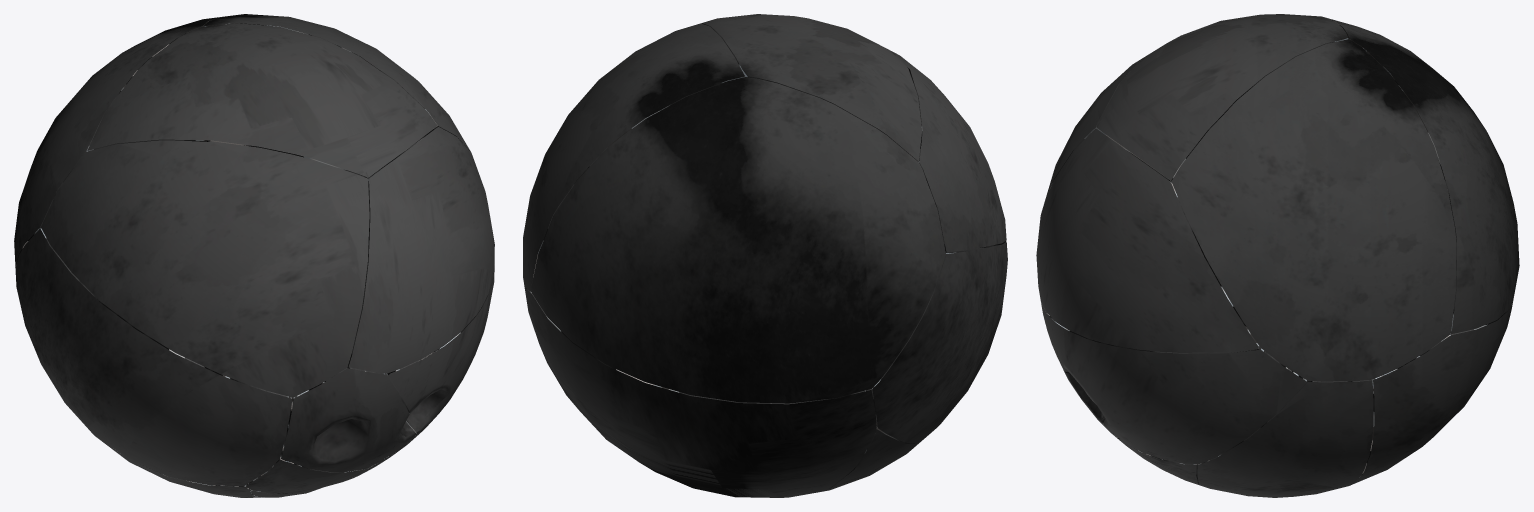
File: projectile1_fractured.glb
The picture shows the model from 3 angles, left to right: view 1: azimuth 30°, elevation 25°; view 2: azimuth 150°, elevation 25°; view 3: azimuth 270°, elevation 25°; orthographic projection.
Visible parts, largest first — view 1: ball-phys-dynamic._cell, ball-phys-dynamic._cell.004, ball-phys-dynamic._cell.005, ball-phys-dynamic._cell.013, ball-phys-dynamic._cell.001, ball-phys-dynamic._cell.006, ball-phys-dynamic._cell.007, ball-phys-dynamic._cell.003, ball-phys-dynamic._cell.009, ball-phys-dynamic._cell.008; view 2: ball-phys-dynamic._cell.006, ball-phys-dynamic._cell.011, ball-phys-dynamic._cell.003, ball-phys-dynamic._cell.005, ball-phys-dynamic._cell.004, ball-phys-dynamic._cell, ball-phys-dynamic._cell.008; view 3: ball-phys-dynamic._cell.003, ball-phys-dynamic._cell.013, ball-phys-dynamic._cell.007, ball-phys-dynamic._cell.004, ball-phys-dynamic._cell.006, ball-phys-dynamic._cell.012, ball-phys-dynamic._cell.011, ball-phys-dynamic._cell, ball-phys-dynamic._cell.002.
Part boxes in pixels (left/top/right/bottom): ball-phys-dynamic._cell: left=41, top=140, right=369, bottom=397; ball-phys-dynamic._cell.004: left=87, top=23, right=437, bottom=178; ball-phys-dynamic._cell.005: left=15, top=228, right=292, bottom=486; ball-phys-dynamic._cell.013: left=348, top=127, right=494, bottom=373; ball-phys-dynamic._cell.001: left=280, top=367, right=415, bottom=472; ball-phys-dynamic._cell.006: left=14, top=17, right=220, bottom=267; ball-phys-dynamic._cell.007: left=385, top=264, right=494, bottom=435; ball-phys-dynamic._cell.003: left=203, top=14, right=470, bottom=151; ball-phys-dynamic._cell.009: left=246, top=457, right=367, bottom=493; ball-phys-dynamic._cell.008: left=64, top=402, right=251, bottom=497; ball-phys-dynamic._cell.006: left=531, top=77, right=945, bottom=403; ball-phys-dynamic._cell.011: left=524, top=284, right=876, bottom=497; ball-phys-dynamic._cell.003: left=523, top=23, right=745, bottom=291; ball-phys-dynamic._cell.005: left=871, top=241, right=1007, bottom=443; ball-phys-dynamic._cell.004: left=701, top=14, right=921, bottom=161; ball-phys-dynamic._cell: left=891, top=51, right=1006, bottom=252; ball-phys-dynamic._cell.008: left=804, top=427, right=921, bottom=494; ball-phys-dynamic._cell.003: left=1171, top=39, right=1456, bottom=381; ball-phys-dynamic._cell.013: left=1036, top=128, right=1258, bottom=352; ball-phys-dynamic._cell.007: left=1041, top=302, right=1306, bottom=464; ball-phys-dynamic._cell.004: left=1096, top=14, right=1348, bottom=180; ball-phys-dynamic._cell.006: left=1331, top=19, right=1519, bottom=334; ball-phys-dynamic._cell.012: left=1197, top=379, right=1373, bottom=497; ball-phys-dynamic._cell.011: left=1350, top=295, right=1514, bottom=485; ball-phys-dynamic._cell: left=1044, top=55, right=1170, bottom=203; ball-phys-dynamic._cell.002: left=1118, top=438, right=1200, bottom=485.
Size of the model in its own units: 1 by 1 by 1.
1 material, 1 textured.
